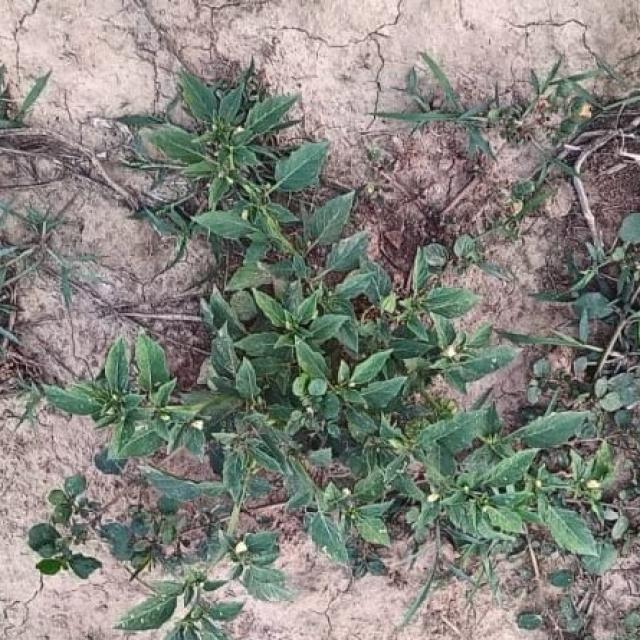weed: (43, 70, 617, 599)
